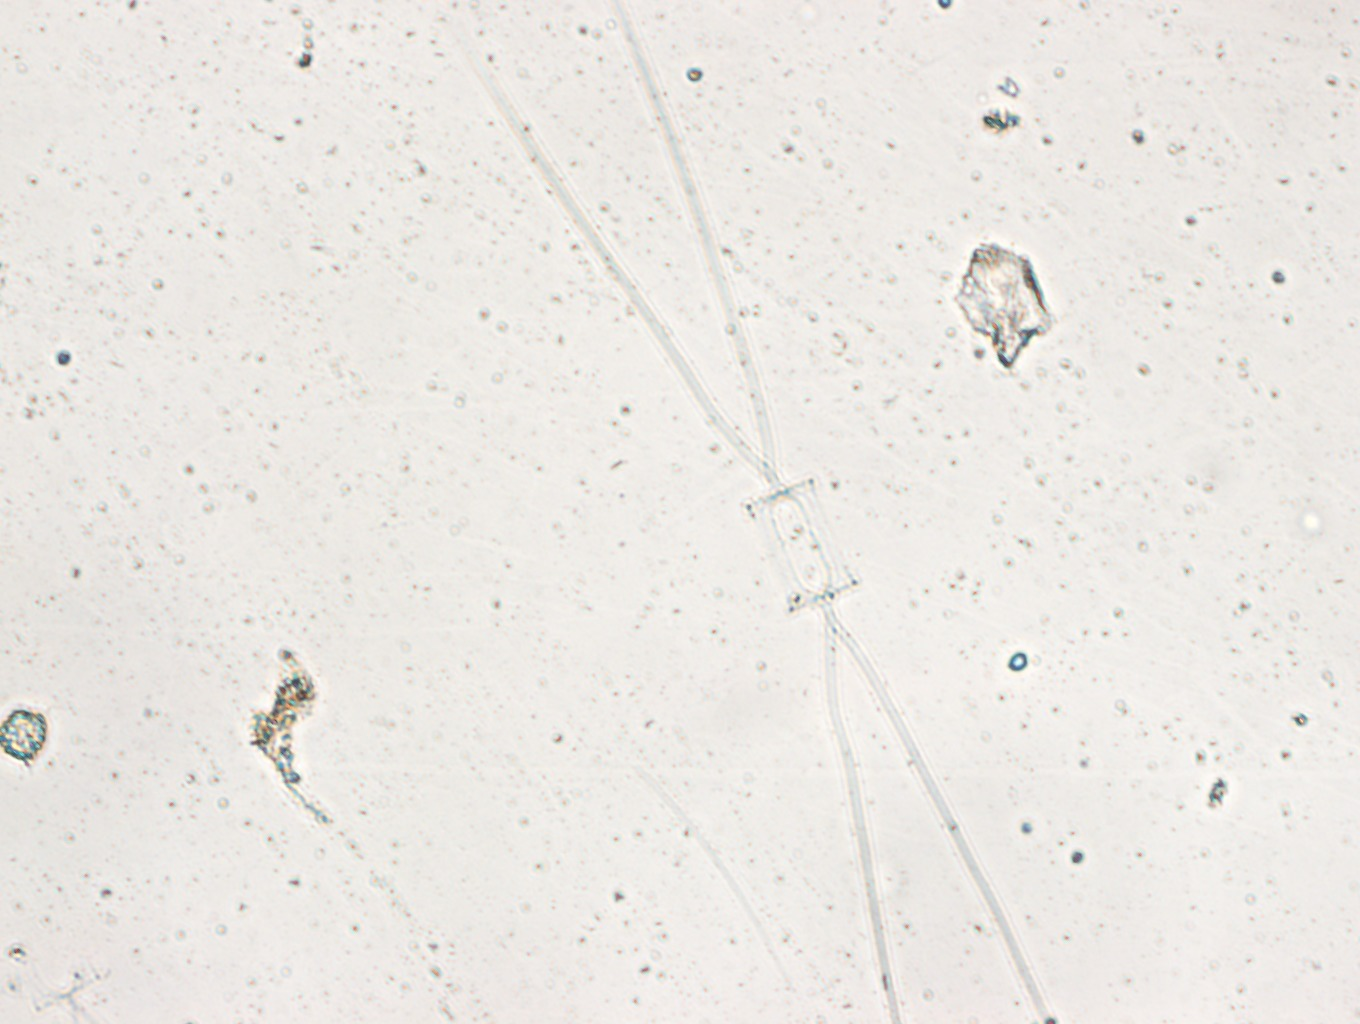chaetoceros: (441, 1, 1050, 1024)
